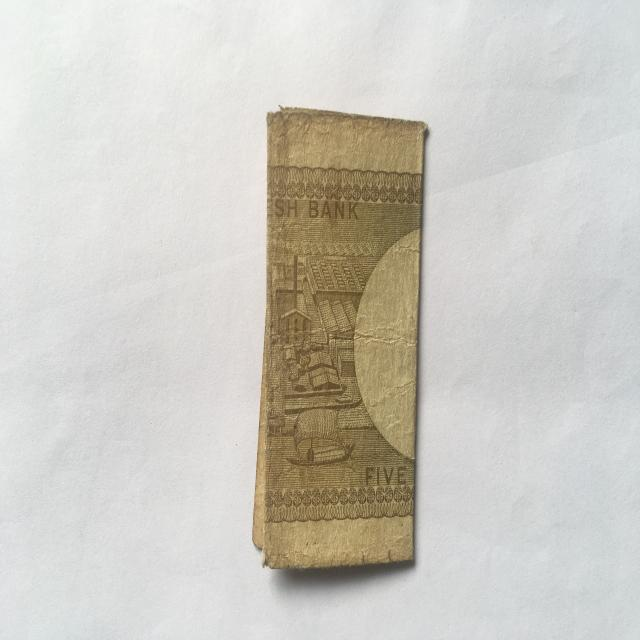Taka: (252, 95, 424, 561)
